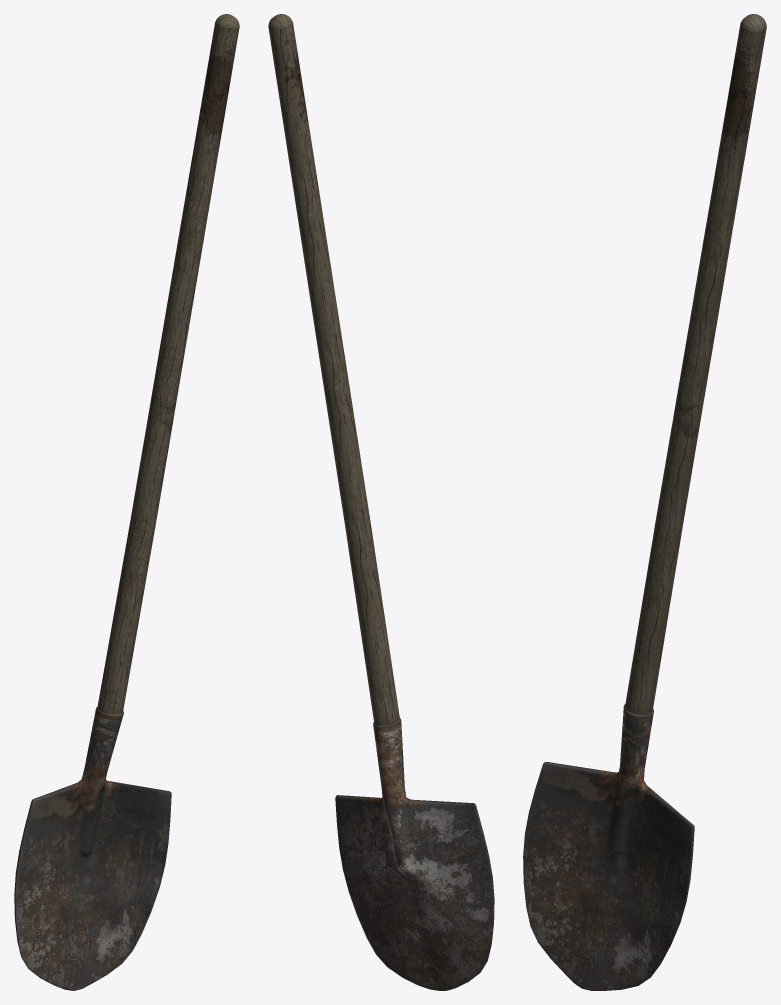
Rendered from shovel(blender).obj.
The picture shows the model from 3 angles, left to right: view 1: azimuth 30°, elevation 25°; view 2: azimuth 150°, elevation 25°; view 3: azimuth 330°, elevation 25°; orthographic projection. The views are drawn at different scales.
Parts seen in each view (by area): view 1: shovel; view 2: shovel; view 3: shovel.
Boxes of the visible parts, x1,y1,x2,y2 form: shovel: (14,14,239,990); shovel: (268,14,494,990); shovel: (523,14,766,990).
Size of the model in its own units: 1.21 by 4.87 by 0.212.
2 materials, 2 textured.
